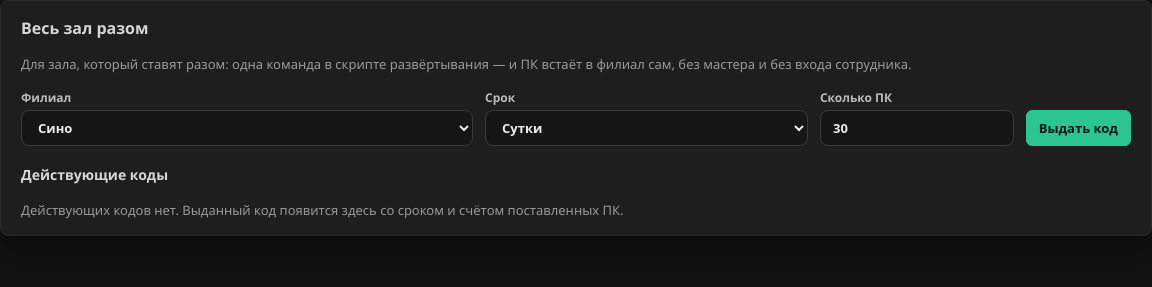
Scenario: InstallCodesSection › does not issue a code for an impossible number of PCs
Expected: the text "Действующих кодов нет." is shown, [21,201,179,219]
Step 1. Replace the text in the number field labelled "Сколько ПК" with "500" → (917, 128), box [820,110,1014,146]
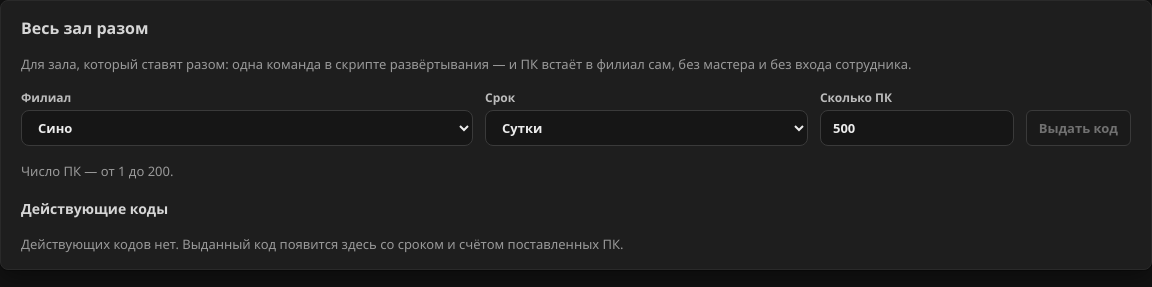
Expected: the button "Выдать код" is disabled, [1026,110,1131,146]
Expected: the text "Число ПК — от 1 до 200." is shown, [21,162,174,180]
